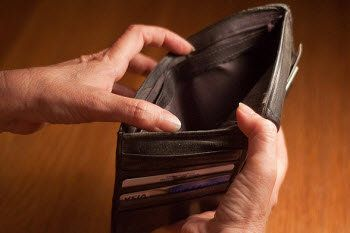monedero: (109, 1, 301, 233)
